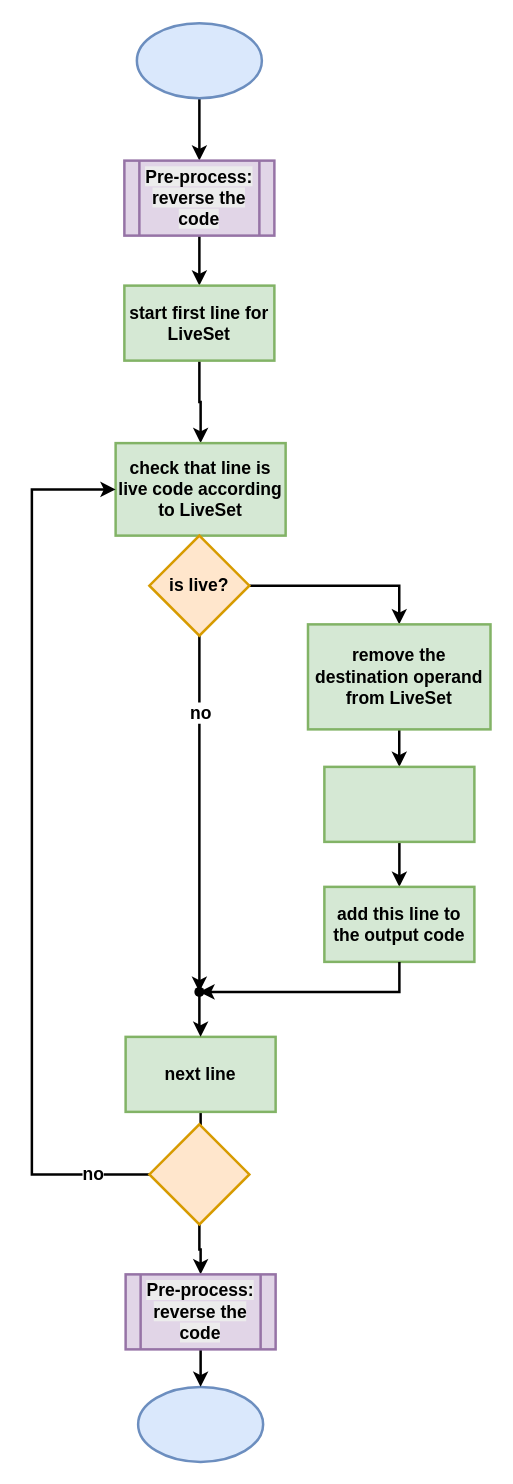
Image size: 513x1484. Some labels were removed from this diagram. The centre of each missing label's shape, as x and y in pixels:
"add source operand for this line to LiveSet" belongs at point (398, 803).
"finish!" belongs at point (200, 1423).
"is all line done?" belongs at point (199, 1173).
"Start" belongs at point (198, 60).
